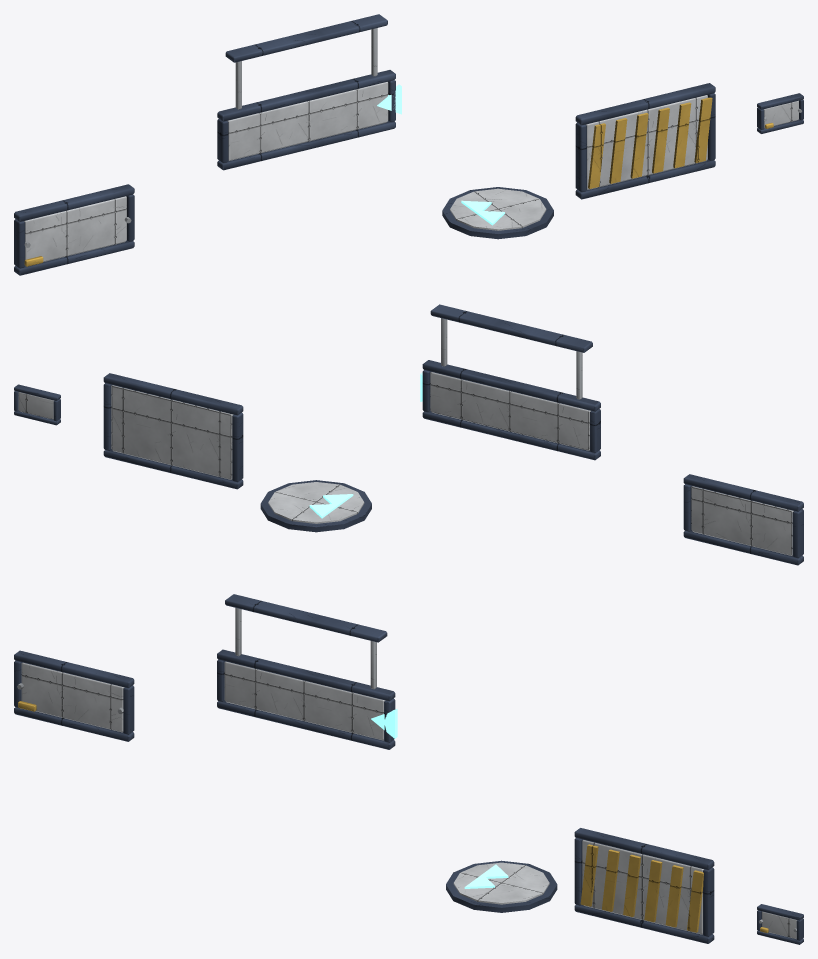
3 views of the same model, one above another, from view 1: azimuth 30°, elevation 25°; view 2: azimuth 150°, elevation 25°; view 3: azimuth 330°, elevation 25° (orthographic).
Visible parts, largest first — view 1: DL017_SignageKit_hull_offwhite, DL017_SignageKit_graphite_navy, DL017_SignageKit_amber_accent, DL017_SignageKit_emissive_cyan, DL017_SignageKit_titanium; view 2: DL017_SignageKit_hull_offwhite, DL017_SignageKit_graphite_navy, DL017_SignageKit_titanium, DL017_SignageKit_emissive_cyan; view 3: DL017_SignageKit_hull_offwhite, DL017_SignageKit_graphite_navy, DL017_SignageKit_amber_accent, DL017_SignageKit_emissive_cyan, DL017_SignageKit_titanium.
Boxes of the visible parts, box(x1,y1,x2,y2) form: DL017_SignageKit_hull_offwhite: box(24, 82, 798, 261); DL017_SignageKit_graphite_navy: box(14, 14, 803, 275); DL017_SignageKit_amber_accent: box(24, 97, 773, 266); DL017_SignageKit_emissive_cyan: box(377, 84, 504, 225); DL017_SignageKit_titanium: box(24, 28, 801, 247); DL017_SignageKit_hull_offwhite: box(18, 372, 793, 555); DL017_SignageKit_graphite_navy: box(14, 304, 803, 565); DL017_SignageKit_titanium: box(441, 318, 582, 399); DL017_SignageKit_emissive_cyan: box(309, 372, 422, 518); DL017_SignageKit_hull_offwhite: box(21, 661, 796, 938); DL017_SignageKit_graphite_navy: box(14, 594, 803, 944); DL017_SignageKit_amber_accent: box(18, 701, 768, 932); DL017_SignageKit_emissive_cyan: box(371, 709, 508, 888); DL017_SignageKit_titanium: box(17, 608, 796, 932).
Bounding box in the file's own units: 8.12 × 2.26 × 1.
Materials: 5 (4 with a texture image).
